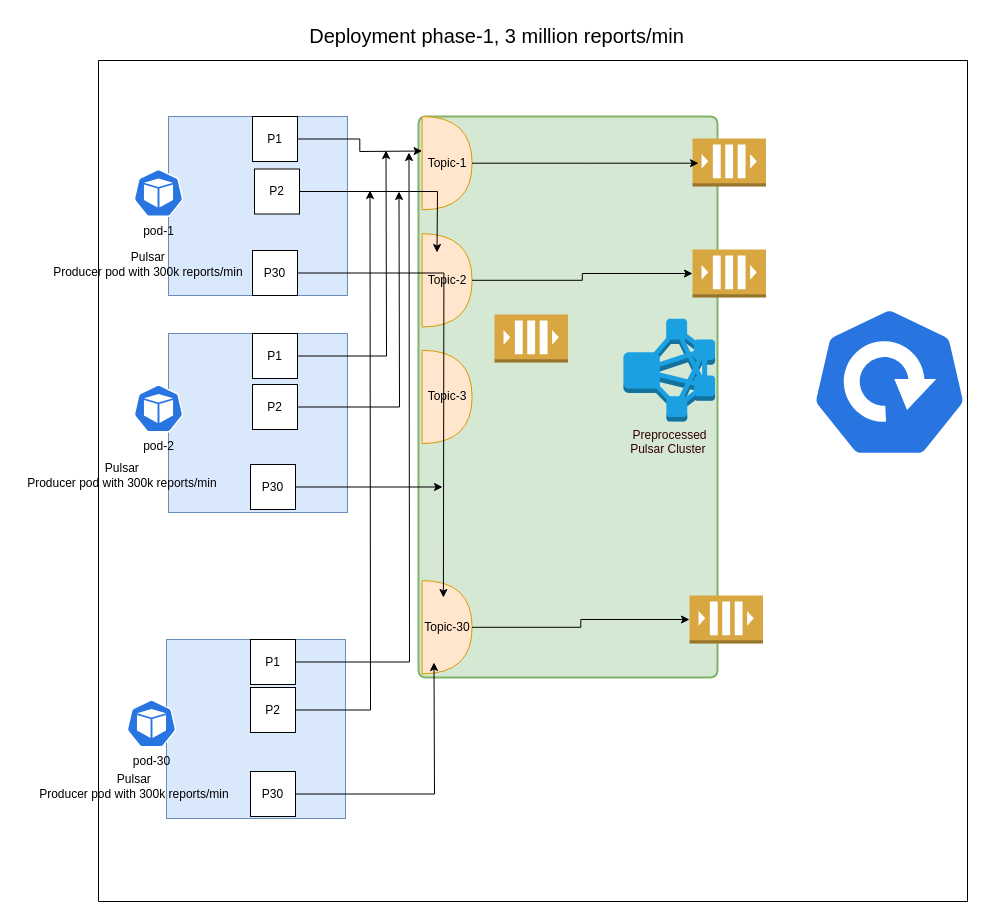
Some shapes in this 985 by 919 pixel diagram are drawn without their labels. The shapes that lost their labels are listed below. From the top down, each one's centre as x and y in pixels, then its label:
point 729,162: Consumer-1
point 729,273: Consumer-2
point 889,382: Kubernetes
point 725,619: Consumer-30
